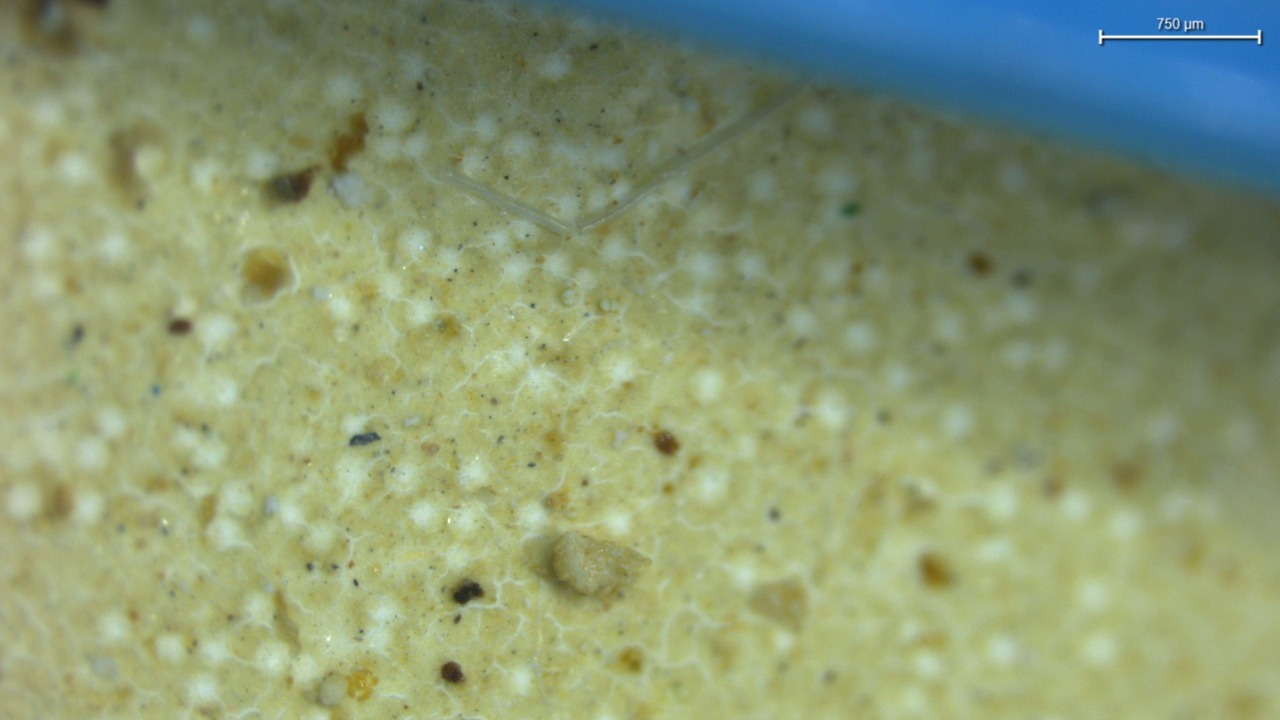microplastic_fragment: (553, 533, 649, 600), (330, 175, 366, 207)
